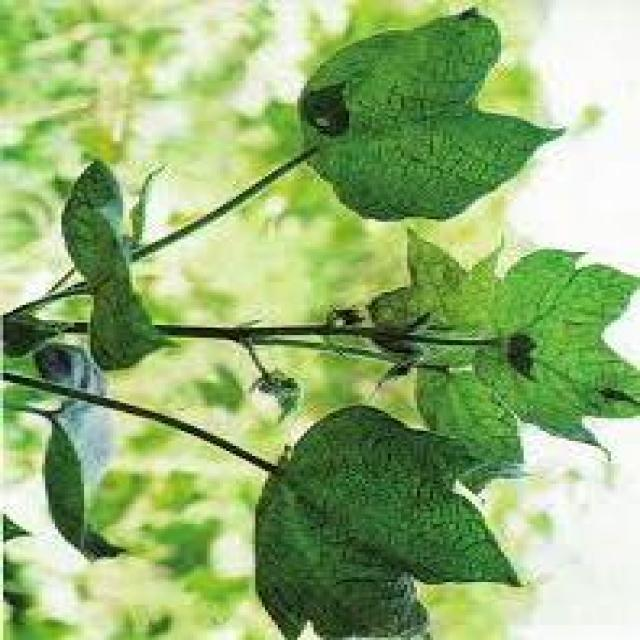Leaf Curl Virus: (154, 41, 581, 543)
